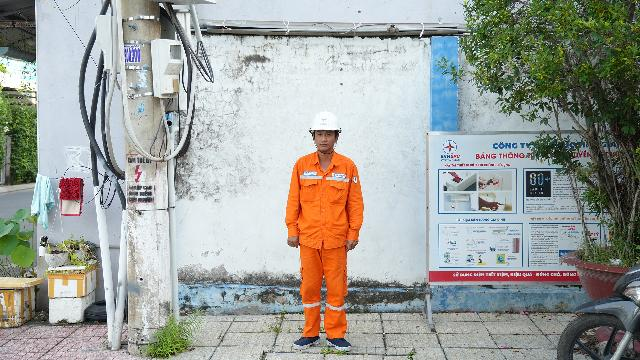helmet: (315, 112, 347, 139)
shoes: (288, 330, 324, 355), (323, 326, 355, 351)
